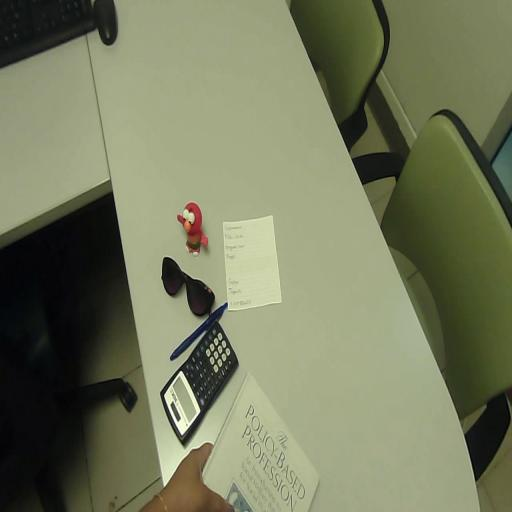pen: (170, 303, 227, 361)
